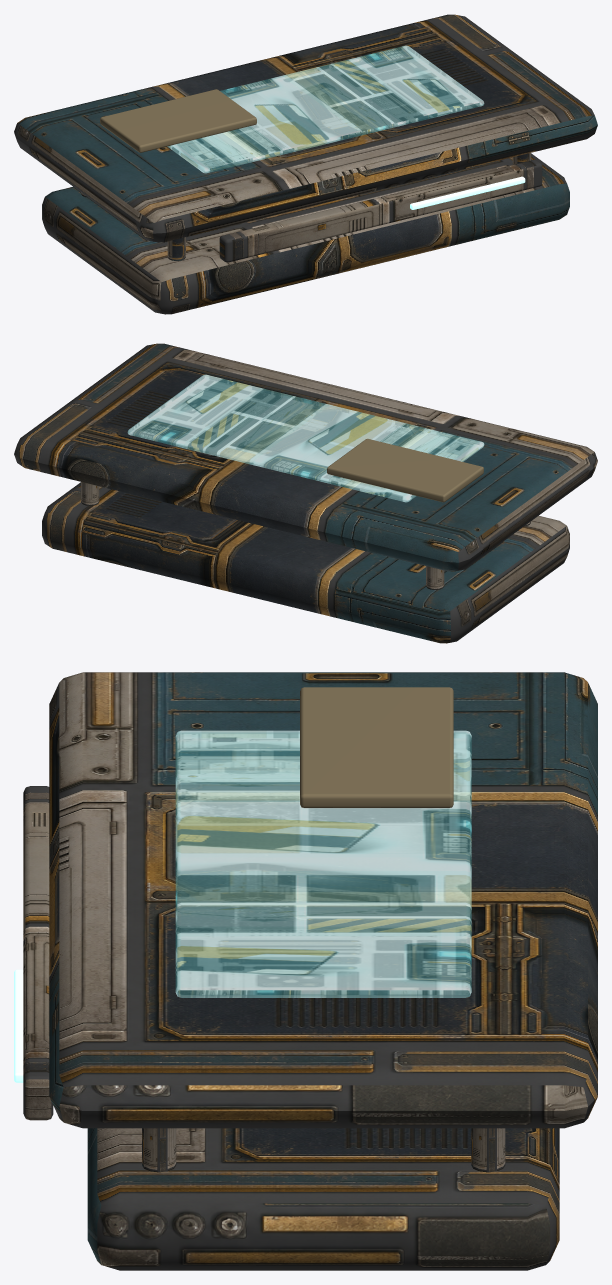
The model's file is hp_room_lounge_low_table_residential.glb.
3 renders of one model, top to bottom at view 1: azimuth 30°, elevation 25°; view 2: azimuth 150°, elevation 25°; view 3: azimuth 270°, elevation 25°, orthographic. The views are drawn at different scales.
Visible parts, largest first — view 1: floating_but_supported_table_slab, wide_grounded_shadow_base, smoked_glass_inset, front_service_drawer, blank_warm_tray_card, front_cyan_drawer_readline, black_table_leg; view 2: floating_but_supported_table_slab, wide_grounded_shadow_base, smoked_glass_inset, blank_warm_tray_card, black_table_leg.001, black_table_leg.003; view 3: floating_but_supported_table_slab, smoked_glass_inset, wide_grounded_shadow_base, blank_warm_tray_card, front_service_drawer, black_table_leg.003, black_table_leg.002, front_cyan_drawer_readline.
Boxes of the visible parts, left/top/right/bottom form: floating_but_supported_table_slab: left=14, top=14, right=597, bottom=242; wide_grounded_shadow_base: left=42, top=153, right=569, bottom=314; smoked_glass_inset: left=167, top=45, right=484, bottom=173; front_service_drawer: left=219, top=160, right=542, bottom=262; blank_warm_tray_card: left=100, top=89, right=256, bottom=152; front_cyan_drawer_readline: left=410, top=176, right=525, bottom=209; black_table_leg: left=167, top=237, right=185, bottom=260; floating_but_supported_table_slab: left=14, top=343, right=597, bottom=571; wide_grounded_shadow_base: left=42, top=482, right=569, bottom=643; smoked_glass_inset: left=127, top=374, right=484, bottom=502; blank_warm_tray_card: left=327, top=438, right=483, bottom=502; black_table_leg.001: left=426, top=566, right=444, bottom=589; black_table_leg.003: left=81, top=482, right=99, bottom=505; floating_but_supported_table_slab: left=49, top=672, right=597, bottom=1128; smoked_glass_inset: left=175, top=730, right=471, bottom=997; wide_grounded_shadow_base: left=87, top=1128, right=559, bottom=1270; blank_warm_tray_card: left=300, top=687, right=453, bottom=808; front_service_drawer: left=23, top=786, right=53, bottom=1120; black_table_leg.003: left=471, top=1128, right=505, bottom=1172; black_table_leg.002: left=142, top=1128, right=176, bottom=1172; front_cyan_drawer_readline: left=14, top=969, right=23, bottom=1082.
Bounding box in the file's own units: 1.5 × 0.4041 × 0.8782.
5 materials, 3 textured.
